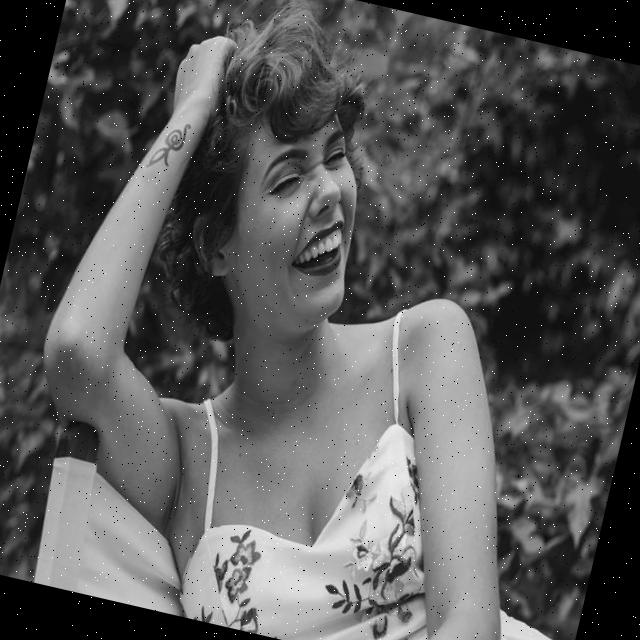Happiness: (199, 82, 390, 349)
